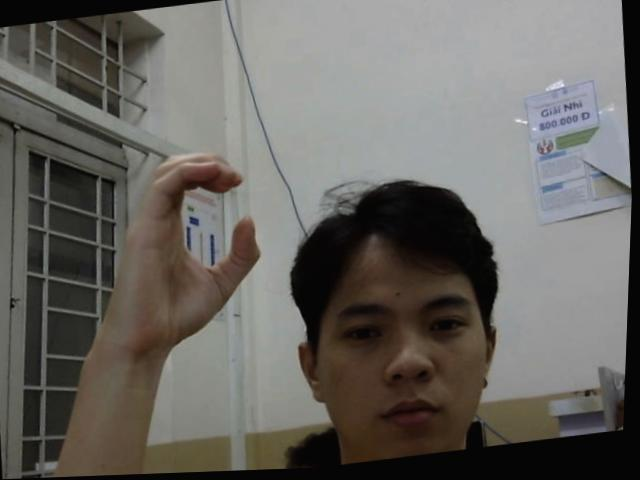C: (98, 144, 275, 353)
